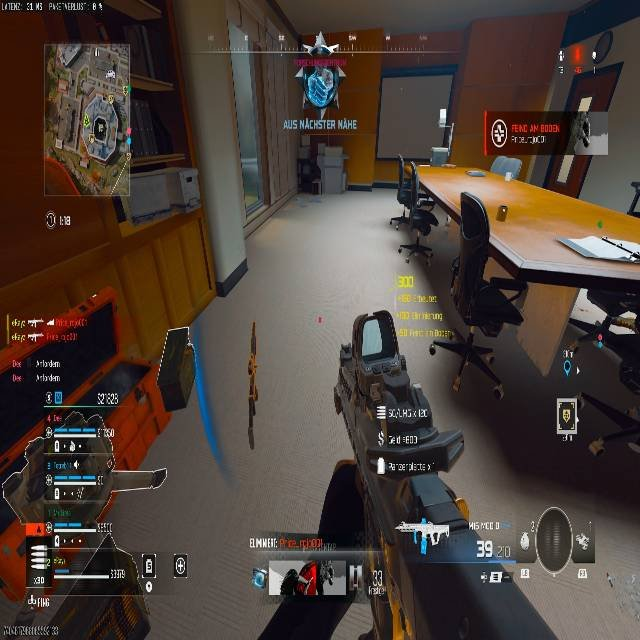player: (310, 314, 484, 640), (0, 403, 149, 638), (390, 170, 527, 401), (294, 145, 322, 198)
